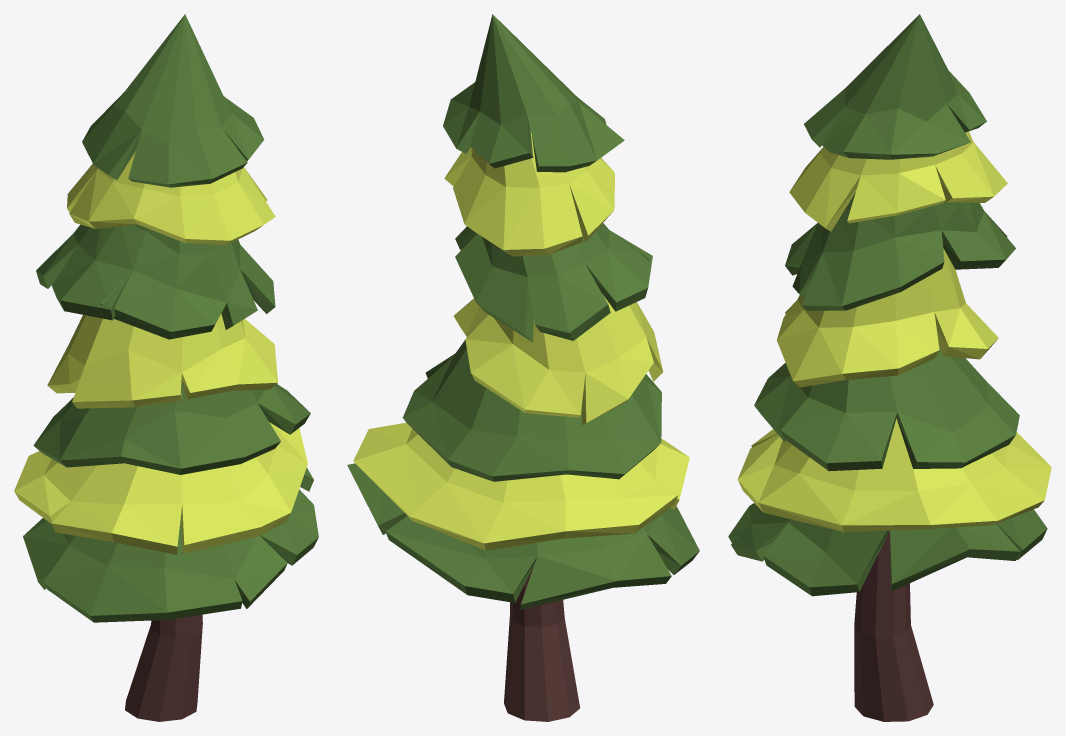
The model's file is Conifer Tree_1.fbx.
3 views of the same model, side by side, from view 1: azimuth 30°, elevation 25°; view 2: azimuth 150°, elevation 25°; view 3: azimuth 270°, elevation 25° (orthographic). The views are drawn at different scales.
Visible parts, largest first — view 1: Conifer Tree_1; view 2: Conifer Tree_1; view 3: Conifer Tree_1.
Boxes of the visible parts, bbox=[...] form: Conifer Tree_1: bbox=[14, 14, 318, 721]; Conifer Tree_1: bbox=[347, 14, 699, 721]; Conifer Tree_1: bbox=[728, 14, 1051, 721].
Bounding box in the file's own units: 2.58 × 5.93 × 2.45.
